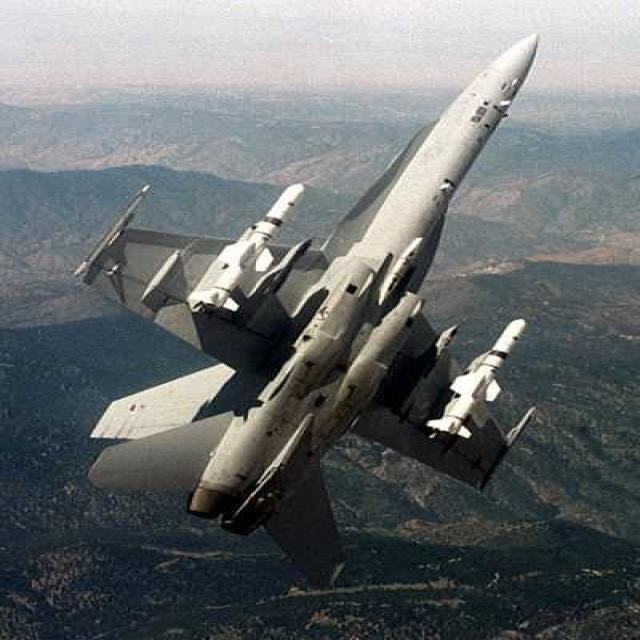missile: (185, 179, 308, 319), (428, 312, 532, 445)
